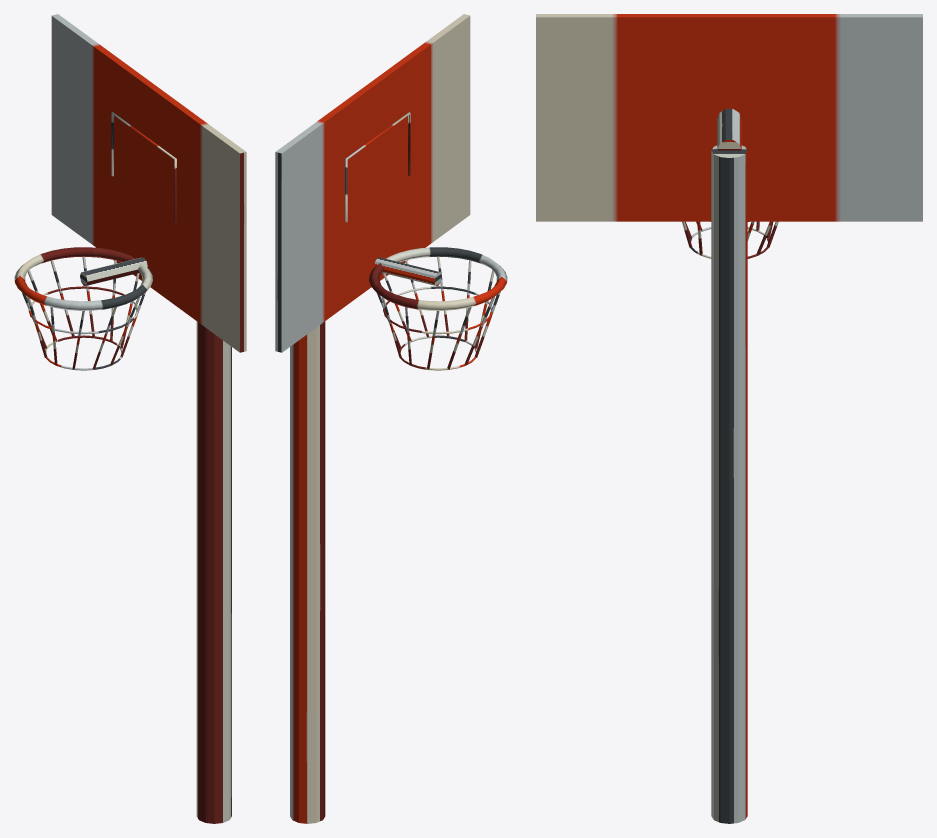
The model's file is street_hoop.glb.
The picture shows the model from 3 angles, left to right: view 1: azimuth 30°, elevation 25°; view 2: azimuth 150°, elevation 25°; view 3: azimuth 270°, elevation 25°; orthographic projection. The views are drawn at different scales.
Parts seen in each view (by area): view 1: street_hoop; view 2: street_hoop; view 3: street_hoop.
Boxes of the visible parts, <box> form: street_hoop: <box>14,14,246,823</box>; street_hoop: <box>275,14,507,823</box>; street_hoop: <box>536,14,922,823</box>.
Bounding box in the file's own units: 3.79 × 13.15 × 6.
1 material, 1 textured.
